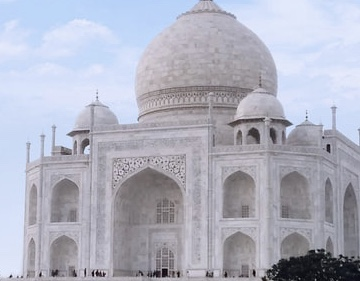Mosque: (19, 3, 355, 268)
